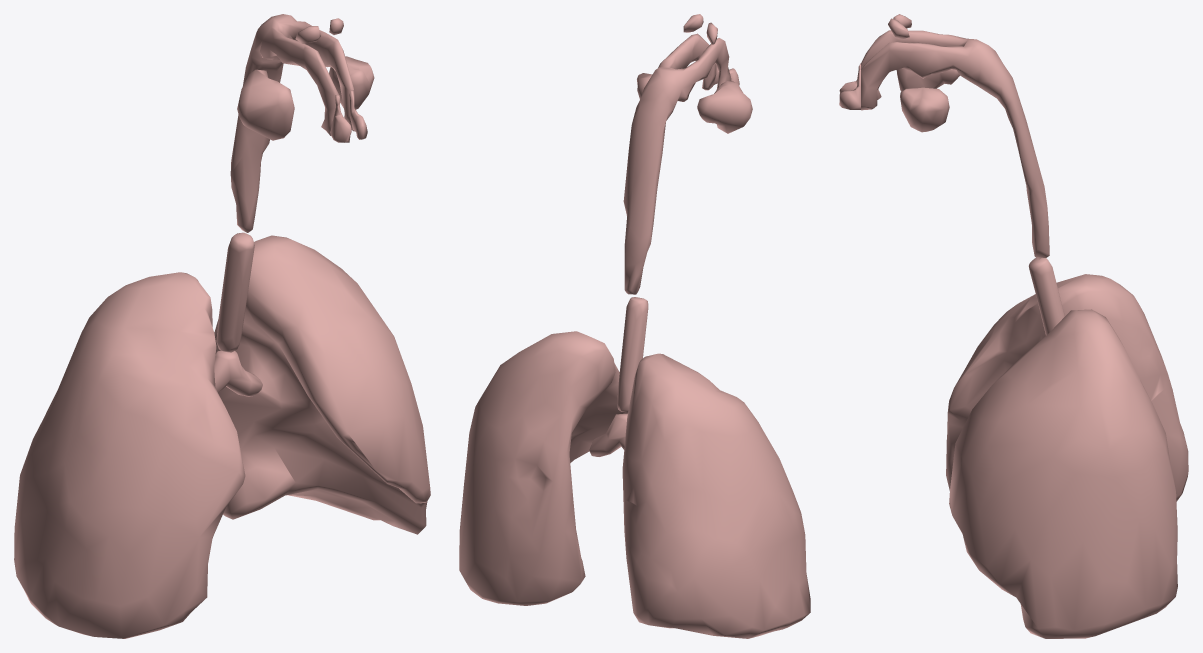
The model's file is pediatric_child_10y_female.respiratory.LOD2.glb.
3 views of the same model, side by side, from view 1: azimuth 30°, elevation 25°; view 2: azimuth 150°, elevation 25°; view 3: azimuth 270°, elevation 25° (orthographic). The views are drawn at different scales.
Visible parts, largest first — view 1: PEDIATRIC.CHILD_10Y.FEMALE.RESPIRATORY.LUNG.R, PEDIATRIC.CHILD_10Y.FEMALE.RESPIRATORY.LUNG.L, PEDIATRIC.CHILD_10Y.FEMALE.RESPIRATORY.ET2, PEDIATRIC.CHILD_10Y.FEMALE.RESPIRATORY.TRACHEA, PEDIATRIC.CHILD_10Y.FEMALE.RESPIRATORY.BB1, PEDIATRIC.CHILD_10Y.FEMALE.RESPIRATORY.ET1; view 2: PEDIATRIC.CHILD_10Y.FEMALE.RESPIRATORY.LUNG.R, PEDIATRIC.CHILD_10Y.FEMALE.RESPIRATORY.LUNG.L, PEDIATRIC.CHILD_10Y.FEMALE.RESPIRATORY.ET2, PEDIATRIC.CHILD_10Y.FEMALE.RESPIRATORY.TRACHEA, PEDIATRIC.CHILD_10Y.FEMALE.RESPIRATORY.BB1; view 3: PEDIATRIC.CHILD_10Y.FEMALE.RESPIRATORY.LUNG.L, PEDIATRIC.CHILD_10Y.FEMALE.RESPIRATORY.LUNG.R, PEDIATRIC.CHILD_10Y.FEMALE.RESPIRATORY.ET2, PEDIATRIC.CHILD_10Y.FEMALE.RESPIRATORY.TRACHEA, PEDIATRIC.CHILD_10Y.FEMALE.RESPIRATORY.ET1.
Boxes of the visible parts, x1,y1,x2,y2 form: PEDIATRIC.CHILD_10Y.FEMALE.RESPIRATORY.LUNG.R: [14, 272, 245, 638]; PEDIATRIC.CHILD_10Y.FEMALE.RESPIRATORY.LUNG.L: [214, 235, 430, 534]; PEDIATRIC.CHILD_10Y.FEMALE.RESPIRATORY.ET2: [230, 14, 374, 232]; PEDIATRIC.CHILD_10Y.FEMALE.RESPIRATORY.TRACHEA: [216, 232, 254, 352]; PEDIATRIC.CHILD_10Y.FEMALE.RESPIRATORY.BB1: [214, 350, 262, 396]; PEDIATRIC.CHILD_10Y.FEMALE.RESPIRATORY.ET1: [330, 90, 367, 142]; PEDIATRIC.CHILD_10Y.FEMALE.RESPIRATORY.LUNG.R: [622, 353, 810, 638]; PEDIATRIC.CHILD_10Y.FEMALE.RESPIRATORY.LUNG.L: [459, 331, 627, 605]; PEDIATRIC.CHILD_10Y.FEMALE.RESPIRATORY.ET2: [623, 14, 752, 294]; PEDIATRIC.CHILD_10Y.FEMALE.RESPIRATORY.TRACHEA: [617, 297, 648, 412]; PEDIATRIC.CHILD_10Y.FEMALE.RESPIRATORY.BB1: [589, 413, 627, 456]; PEDIATRIC.CHILD_10Y.FEMALE.RESPIRATORY.LUNG.L: [949, 309, 1177, 638]; PEDIATRIC.CHILD_10Y.FEMALE.RESPIRATORY.LUNG.R: [946, 274, 1188, 501]; PEDIATRIC.CHILD_10Y.FEMALE.RESPIRATORY.ET2: [861, 14, 1049, 259]; PEDIATRIC.CHILD_10Y.FEMALE.RESPIRATORY.TRACHEA: [1028, 257, 1064, 335]; PEDIATRIC.CHILD_10Y.FEMALE.RESPIRATORY.ET1: [839, 63, 860, 109].
Size of the model in its own units: 0.1982 by 0.3065 by 0.1759.
